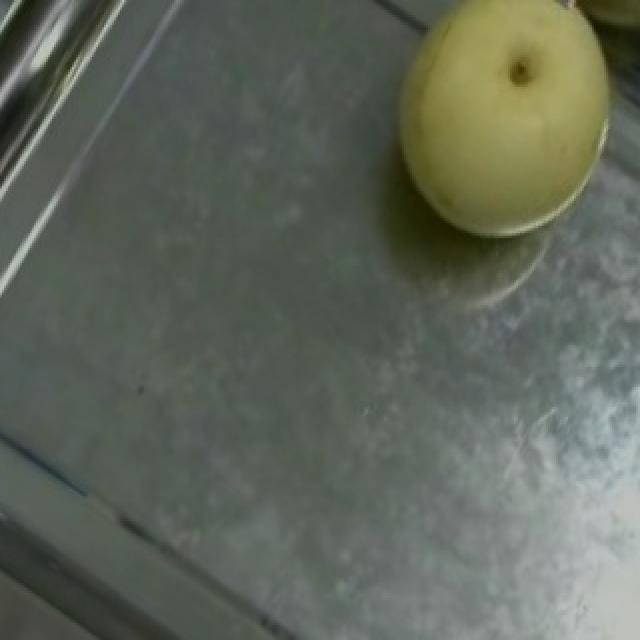Fruit: (346, 0, 640, 280)
